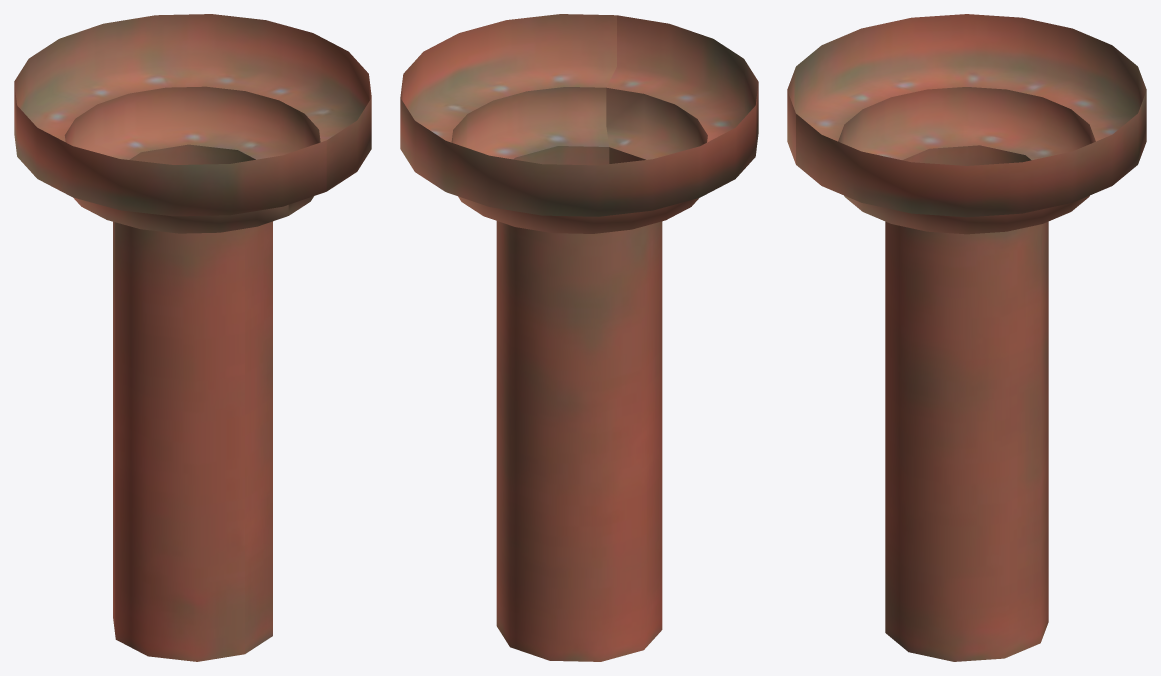
The model's file is log_ride_support.glb.
The picture shows the model from 3 angles, left to right: view 1: azimuth 30°, elevation 25°; view 2: azimuth 150°, elevation 25°; view 3: azimuth 270°, elevation 25°; orthographic projection.
Visible parts, largest first — view 1: SM_Log_Track_Support; view 2: SM_Log_Track_Support; view 3: SM_Log_Track_Support.
Boxes of the visible parts, x1,y1,x2,y2 form: SM_Log_Track_Support: [14, 14, 371, 661]; SM_Log_Track_Support: [400, 14, 758, 661]; SM_Log_Track_Support: [787, 14, 1146, 661].
Size of the model in its own units: 0.4978 by 0.821 by 0.4978.
1 material, 1 textured.
